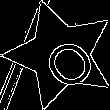O_NW: (26, 21, 95, 88)
